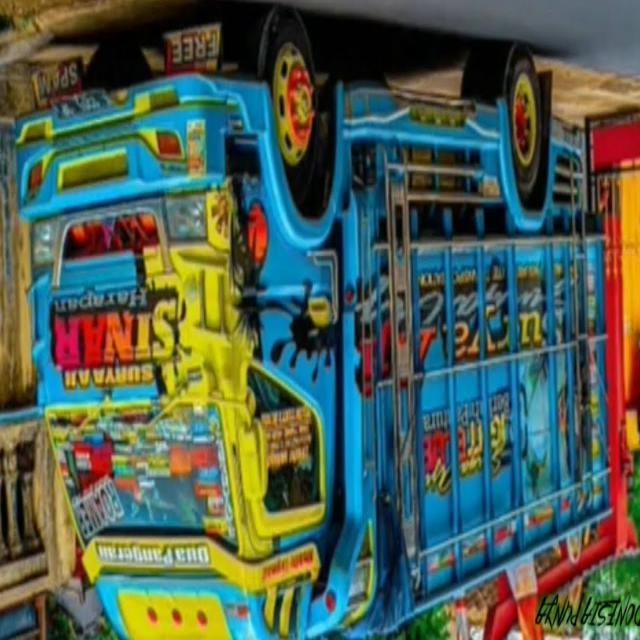truck: (15, 1, 612, 640)
